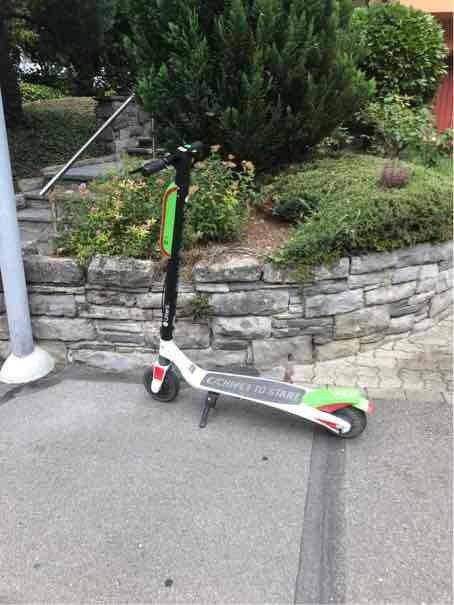scooter: (126, 128, 373, 446)
